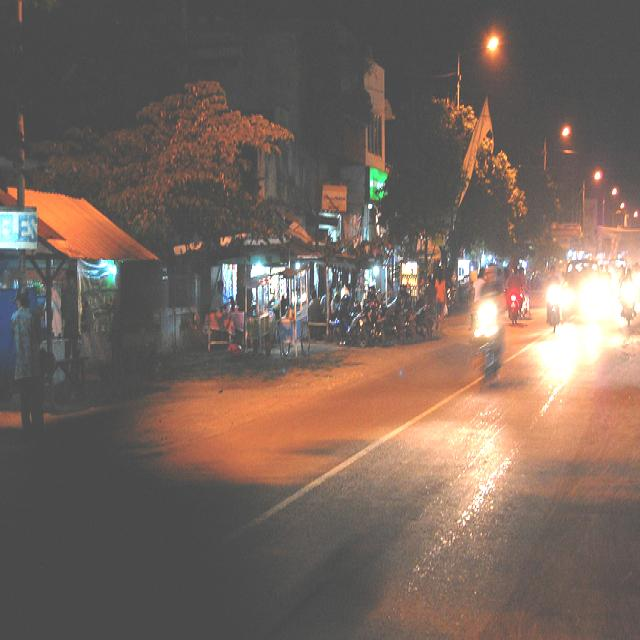Motorbike: (468, 286, 512, 390), (503, 270, 528, 326)
